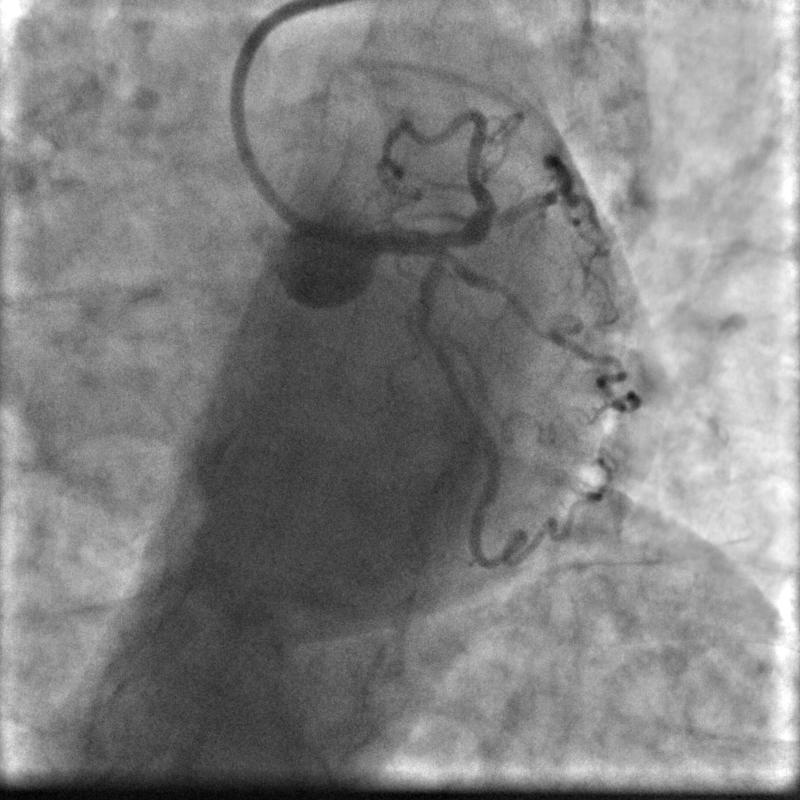Stenosis: (414, 311, 435, 349)
